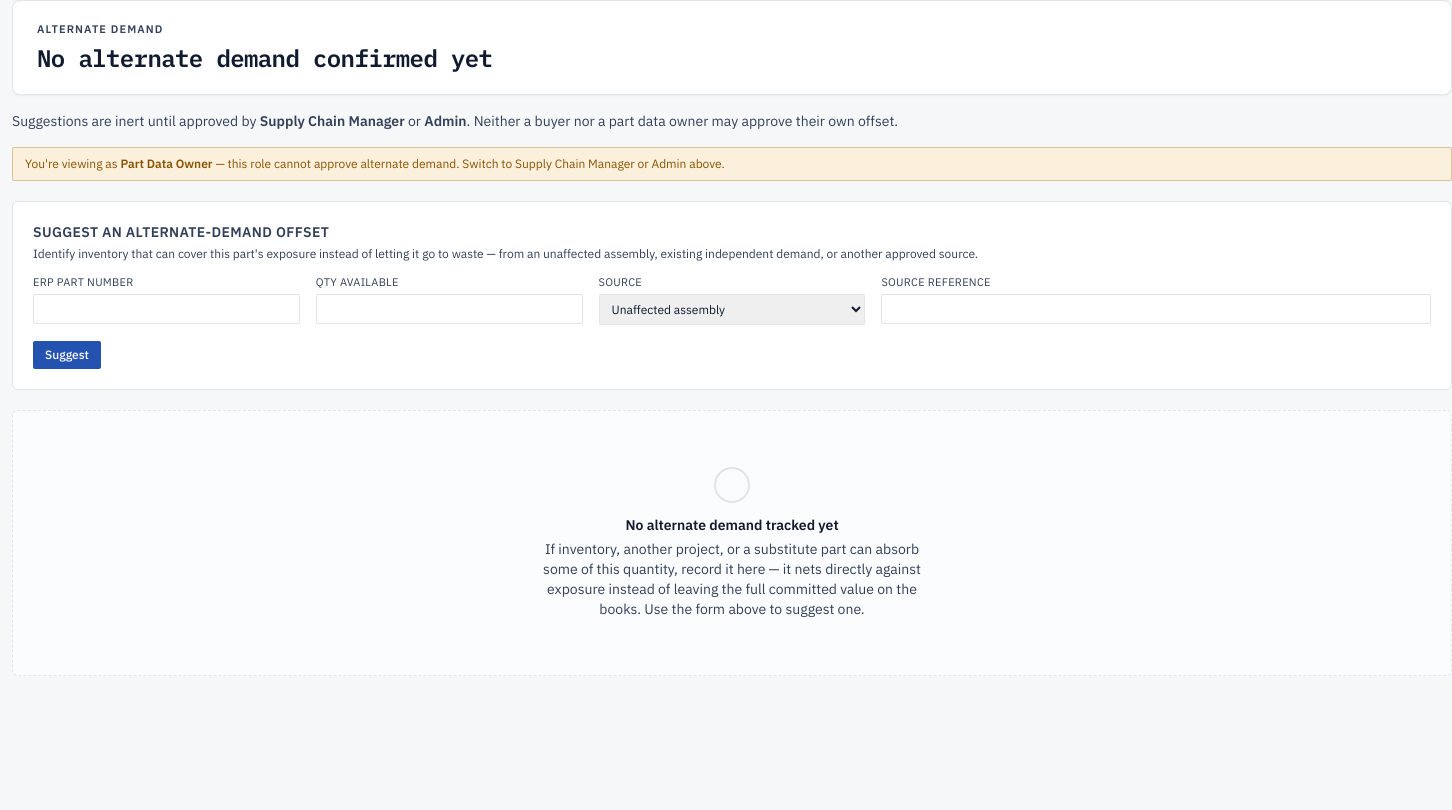
Test case: AlternateDemandClient › shows success feedback with a specific summary after suggesting alternate demand
Type "771-4471" into the field labelled "ERP part number" at x=166, y=309, box [33,294,300,324]
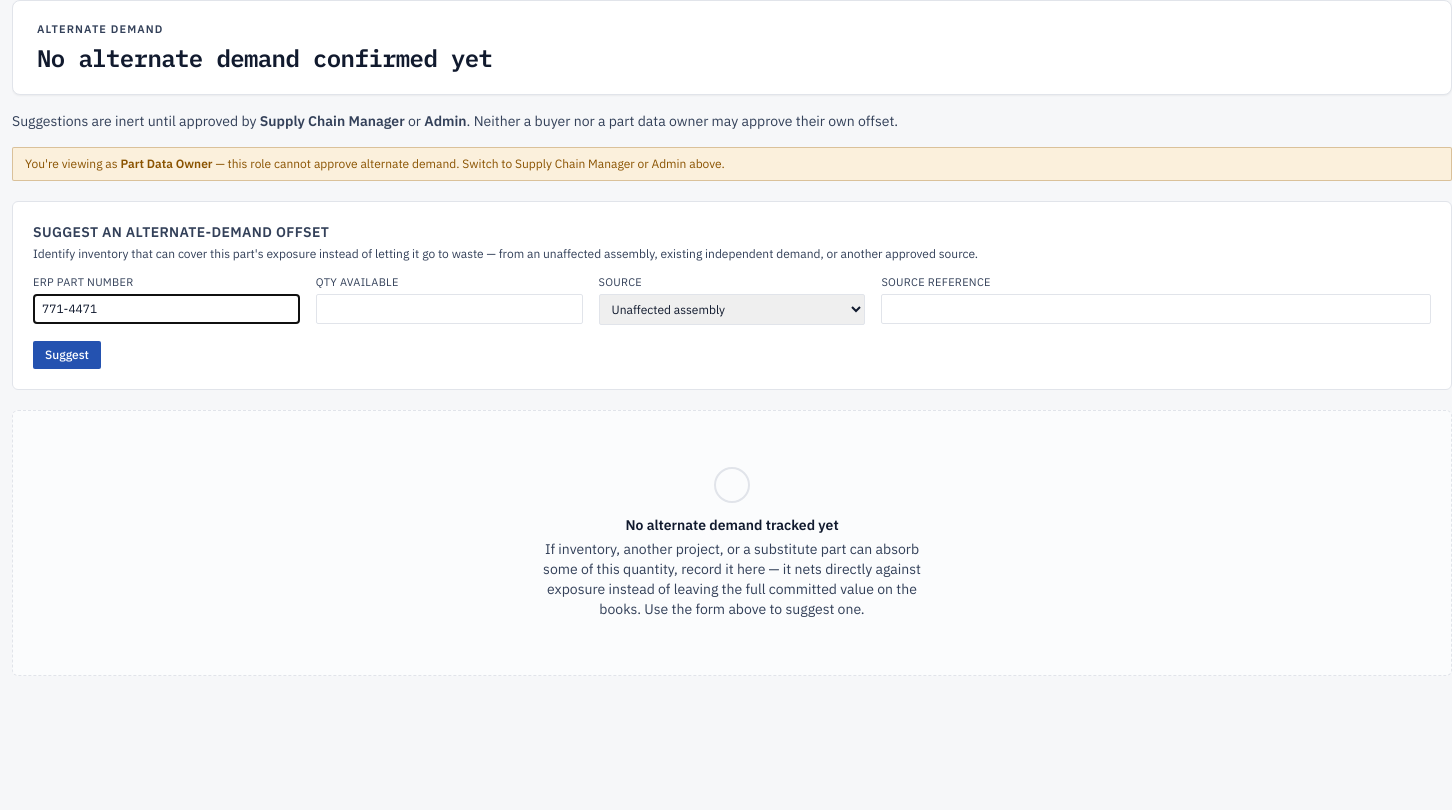
Type "50" into the number field labelled "Qty available" at x=449, y=309, box [316,294,583,324]
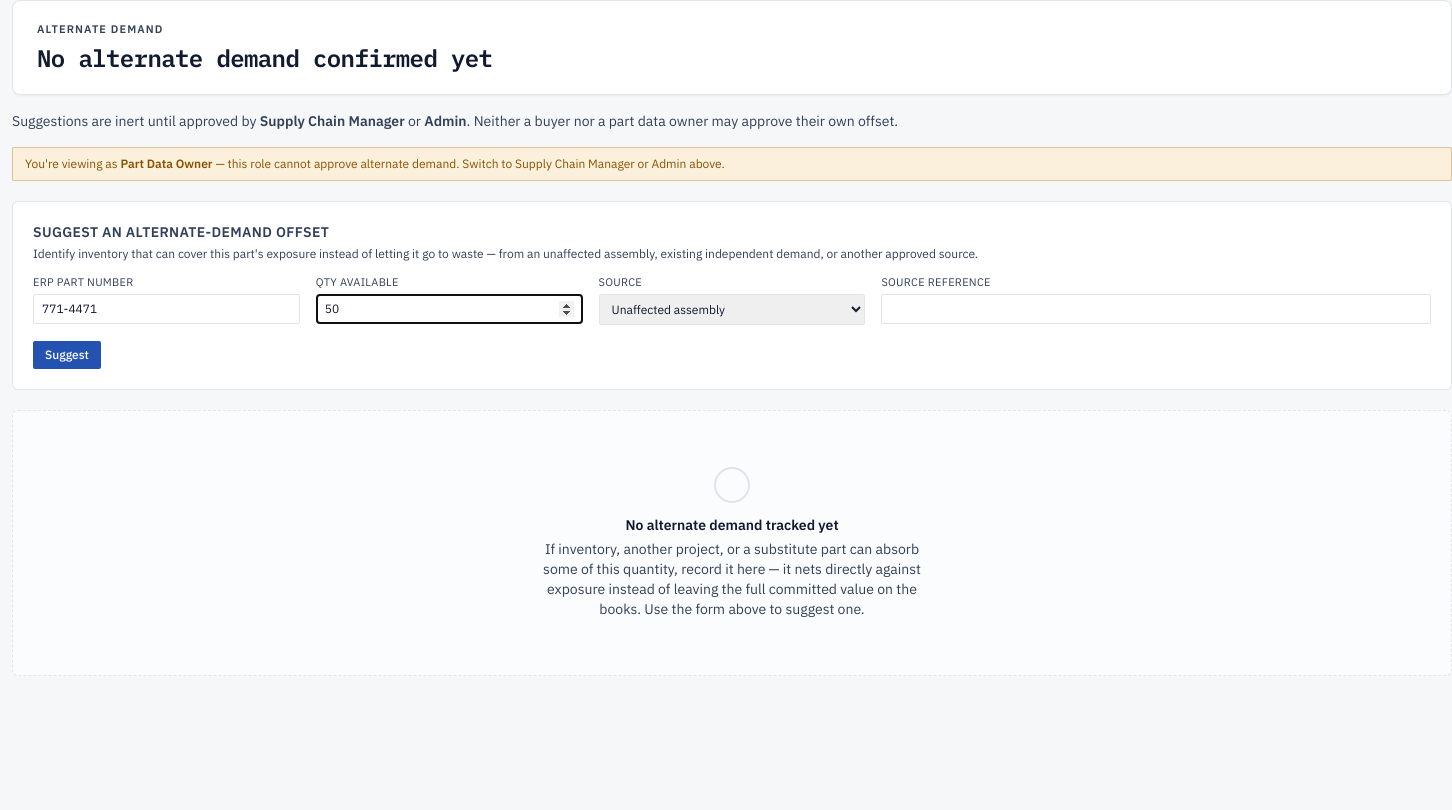
Click the button "Suggest" at x=67, y=355, box [33,341,101,369]
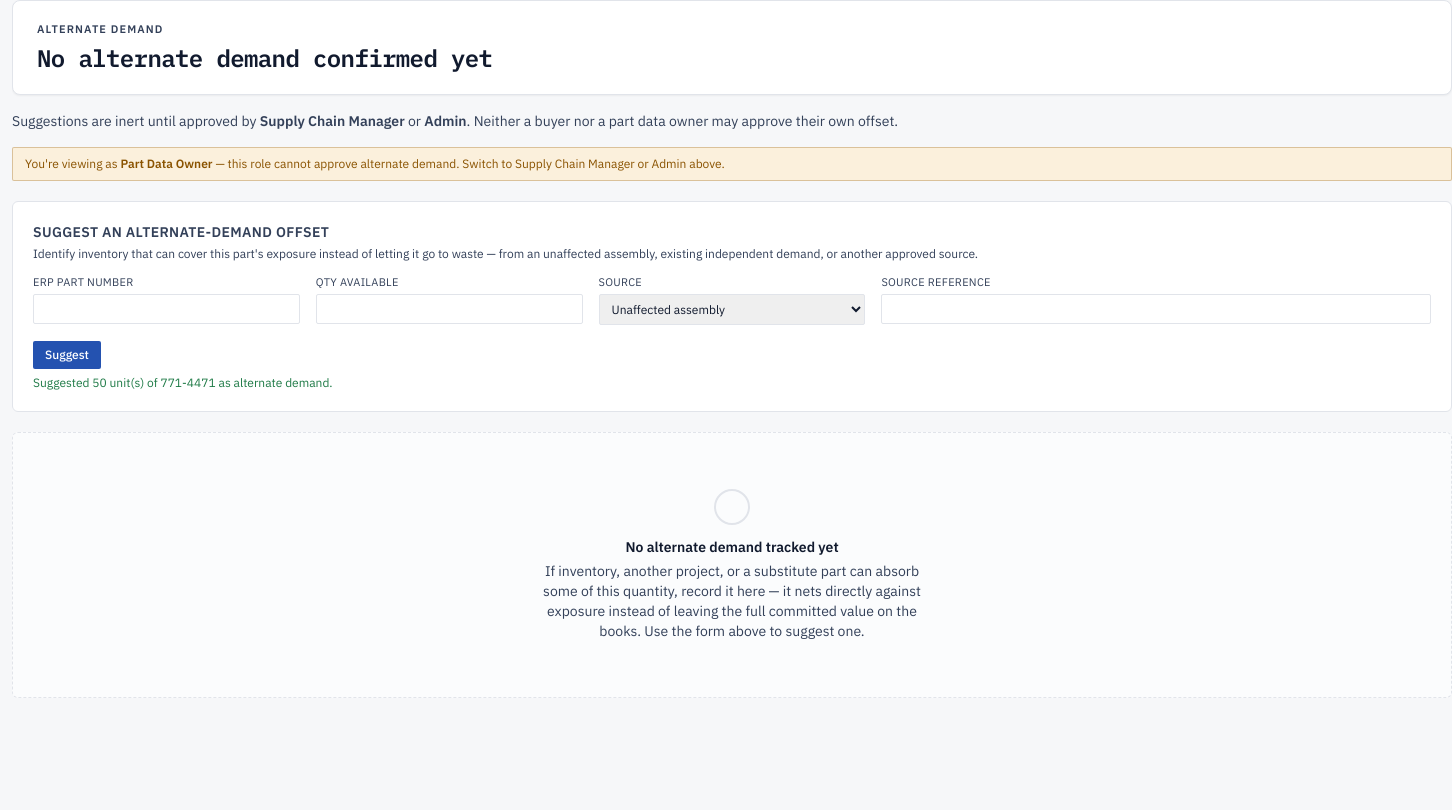
Now the text "Suggested 50 unit(s) of 771-4471 as alternate demand." is shown, box [33,375,333,390]
